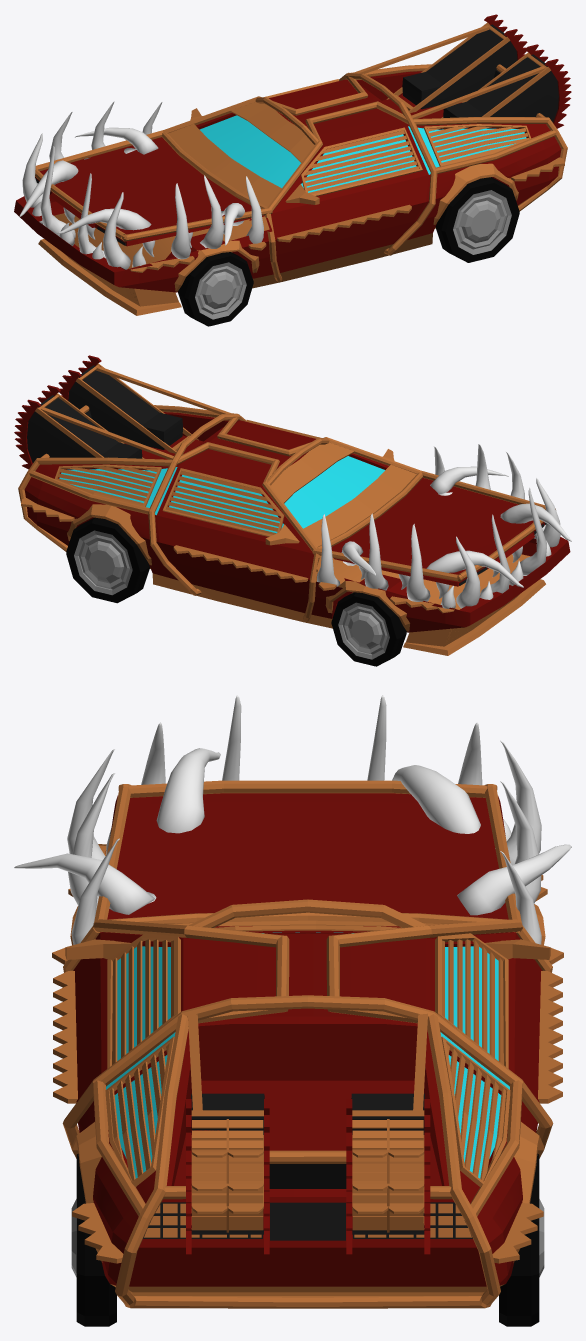
The model's file is boss (1).fbx.
3 views of the same model, one above another, from view 1: azimuth 30°, elevation 25°; view 2: azimuth 150°, elevation 25°; view 3: azimuth 270°, elevation 25° (orthographic). The views are drawn at different scales.
Parts seen in each view (by area): view 1: Body2.001, alt_agız, ust_agız.001, on_teker, arka_teker; view 2: Body2.001, alt_agız, ust_agız.001, on_teker, arka_teker; view 3: Body2.001, ust_agız.001, alt_agız, on_teker.
Part boxes in pixels (x1,y1,x2,y2): Body2.001: (162,14,571,288); alt_agız: (14,101,268,315); ust_agız.001: (19,127,272,257); on_teker: (435,177,519,262); arka_teker: (178,252,253,326); Body2.001: (14,355,421,628); alt_agız: (316,444,570,655); ust_agız.001: (312,466,571,598); on_teker: (66,517,149,603); arka_teker: (331,592,406,666); Body2.001: (53,899,562,1308); ust_agız.001: (14,748,571,932); alt_agız: (52,695,563,964); on_teker: (71,1153,544,1326).
Size of the model in its own units: 469 by 138 by 228.
